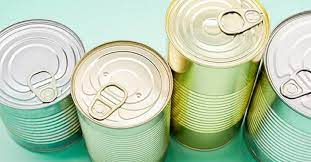metal: (166, 1, 270, 156), (71, 39, 174, 162), (1, 17, 85, 154), (245, 8, 311, 162)
